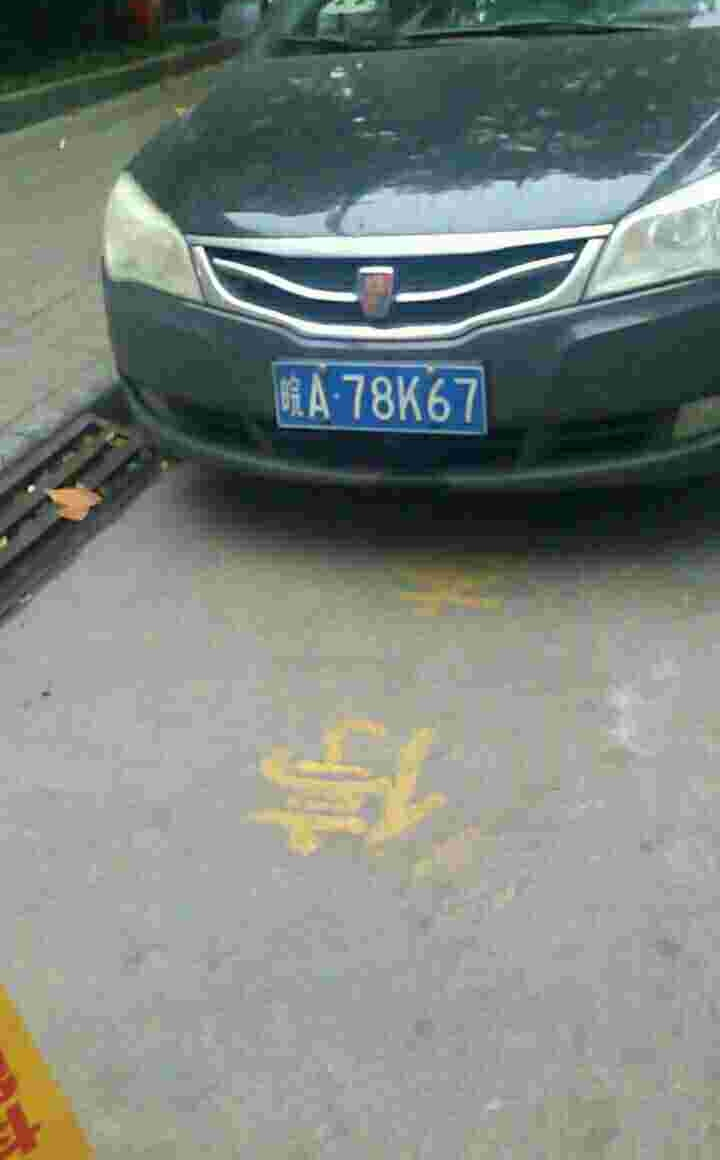license_plate: (267, 362, 489, 429)
